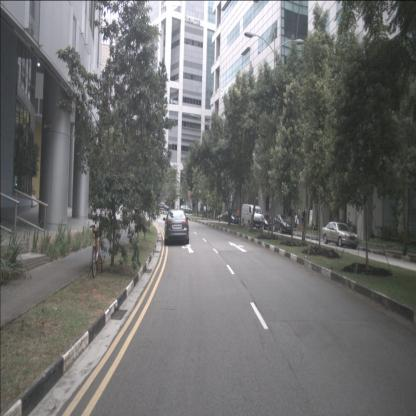human-pedestrian-adult: (294, 212, 298, 231), (236, 208, 240, 224), (203, 204, 206, 218), (296, 217, 299, 229), (348, 217, 350, 230), (176, 204, 178, 217)
vehicle-bicycle: (88, 221, 103, 278)
vehicle-car: (321, 221, 359, 249), (165, 209, 189, 244), (241, 203, 264, 229), (272, 214, 293, 234), (260, 213, 275, 230), (224, 210, 240, 224), (156, 202, 170, 211), (180, 205, 192, 214)
